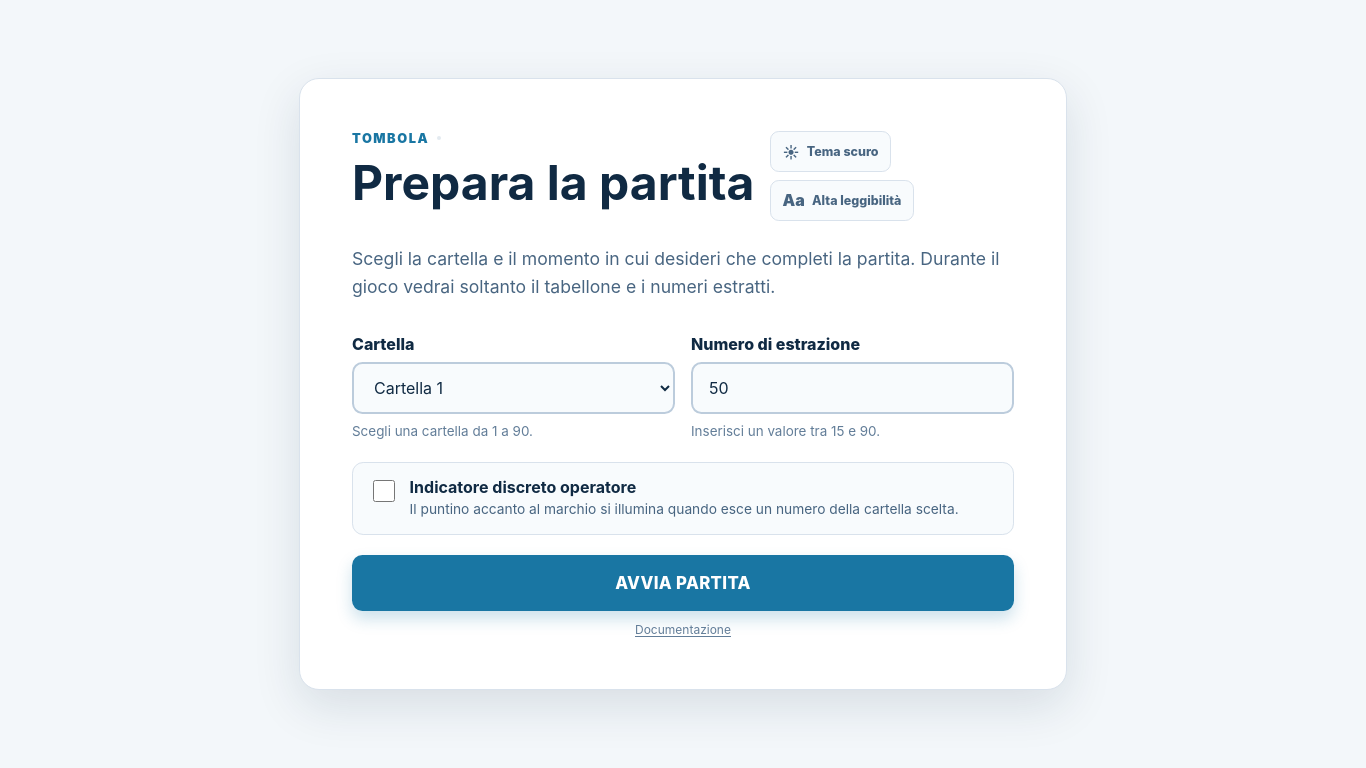
Test: App UI › ignores a second activation while the draw animation is running
Step 1. Click the button "Avvia partita" → (683, 583), box [352,555,1014,611]
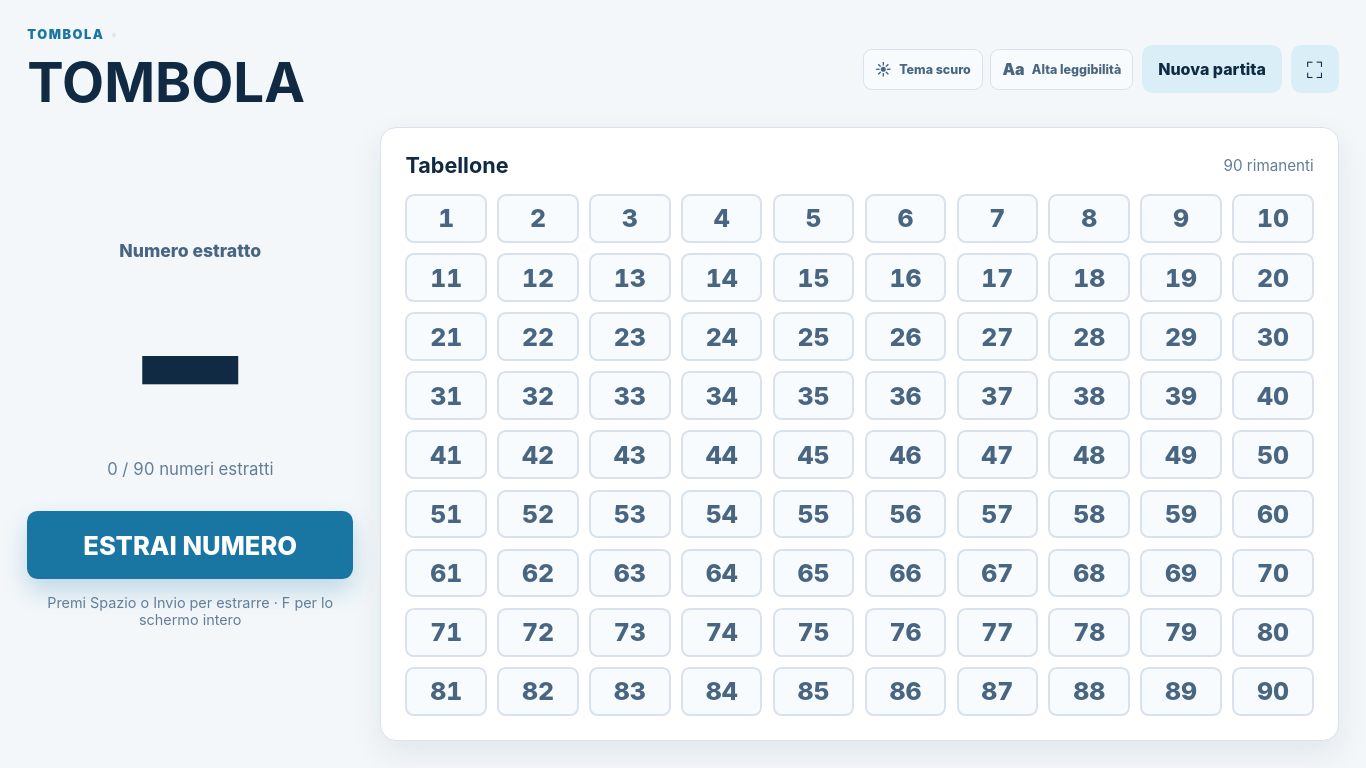
Step 2. Click the button with class "draw-button" → (190, 545), box [27,511,353,579]
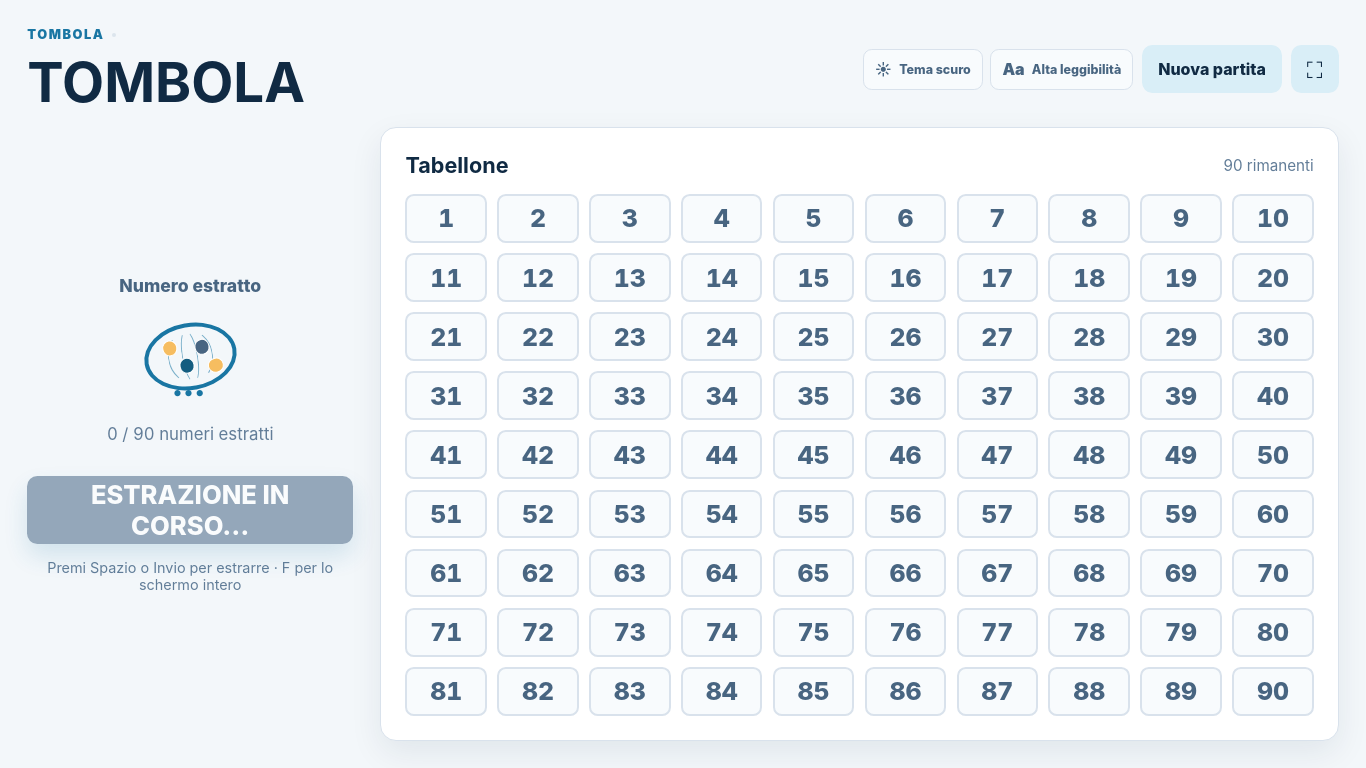
Step 3. Click the button with class "draw-button" → (190, 510), box [27,476,353,544]
Wait 1500 ms
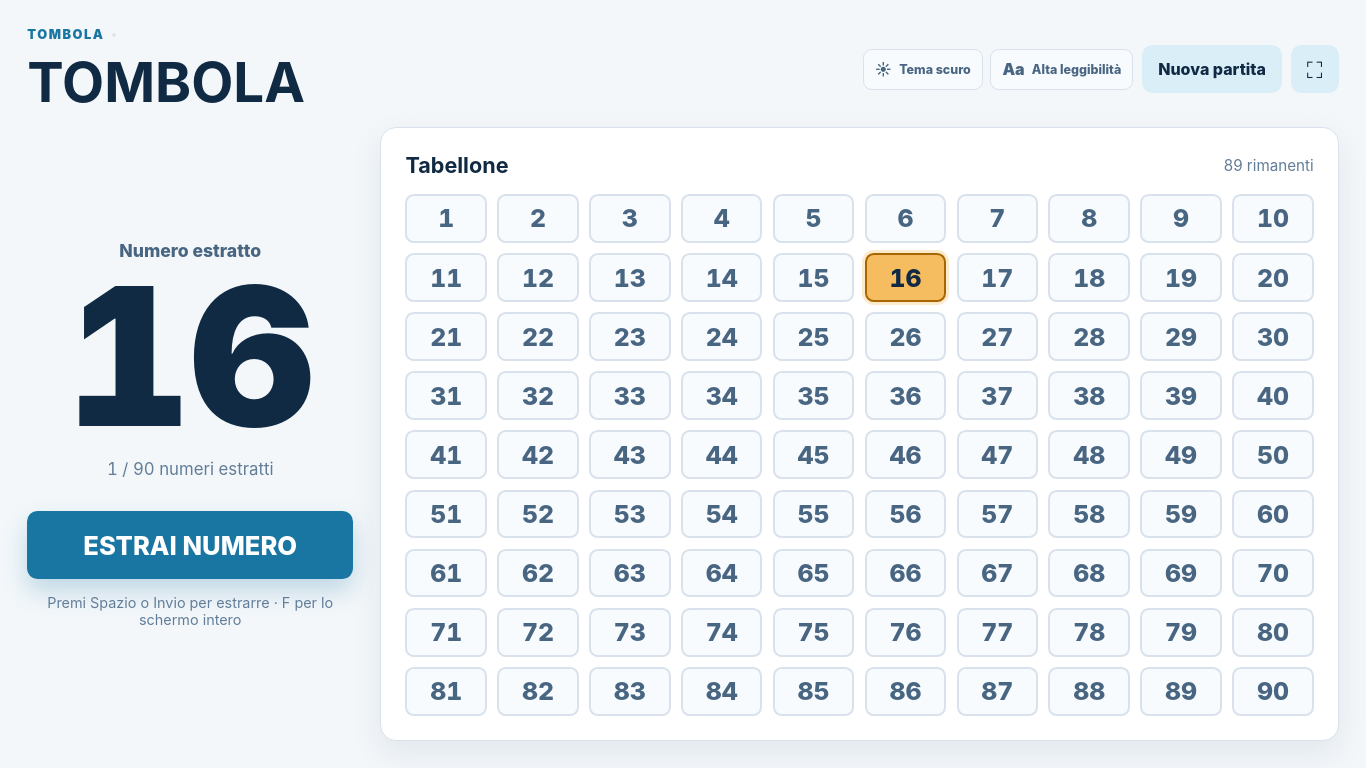
expect the text with class "draw-counter" shows "1 / 90": met, box [107,459,274,479]
